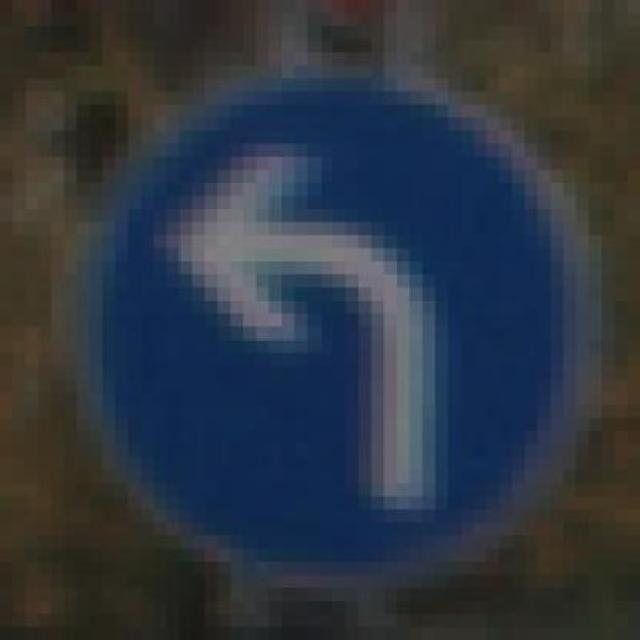Turn left ahead: (76, 52, 615, 576)
